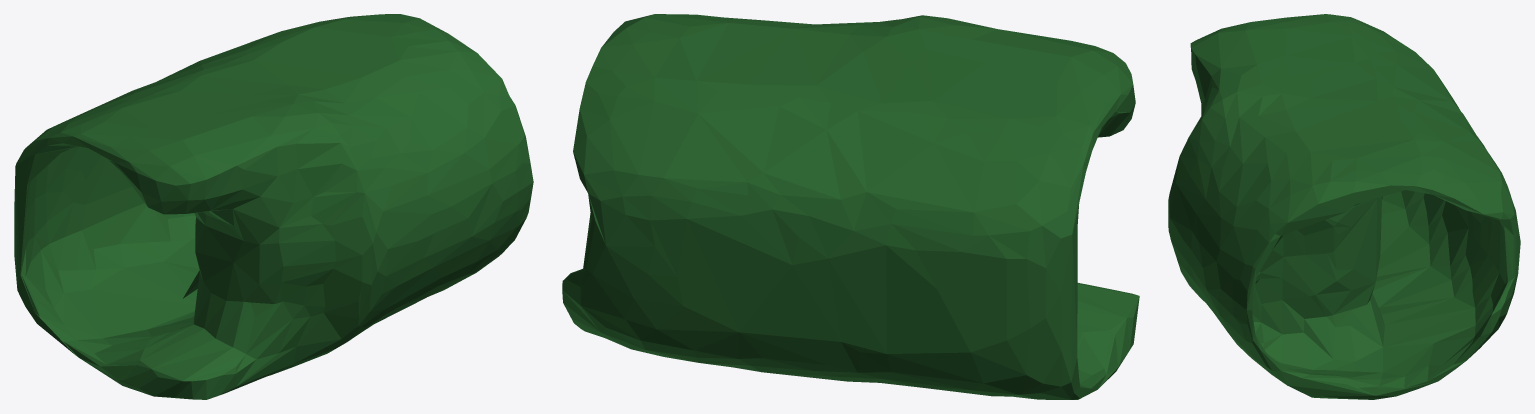
Rendered from sim_sea_2-5_r_elbow_prt.obj.
3 renders of one model, left to right at view 1: azimuth 30°, elevation 25°; view 2: azimuth 150°, elevation 25°; view 3: azimuth 270°, elevation 25°, orthographic. The views are drawn at different scales.
Parts seen in each view (by area): view 1: sim_sea_2-5_r_elbow_prt; view 2: sim_sea_2-5_r_elbow_prt; view 3: sim_sea_2-5_r_elbow_prt.
Boxes of the visible parts, x1,y1,x2,y2 form: sim_sea_2-5_r_elbow_prt: (14, 14, 533, 399); sim_sea_2-5_r_elbow_prt: (562, 14, 1139, 399); sim_sea_2-5_r_elbow_prt: (1168, 14, 1520, 399).
Size of the model in its own units: 144 by 79 by 108.
